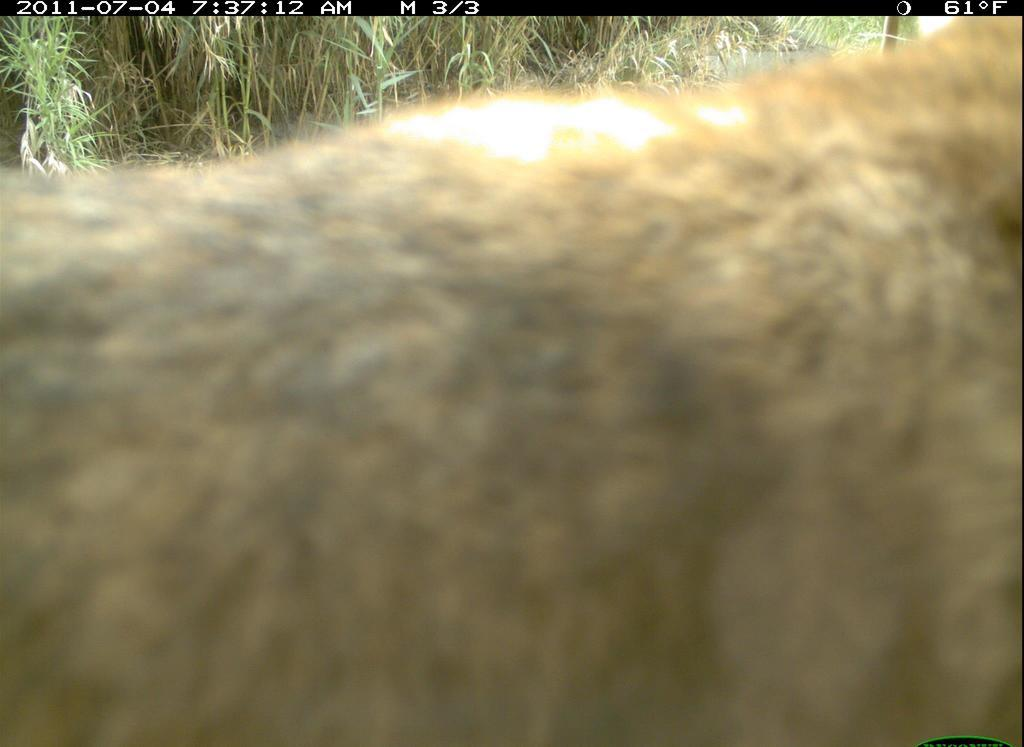coyote: (9, 52, 1023, 742)
